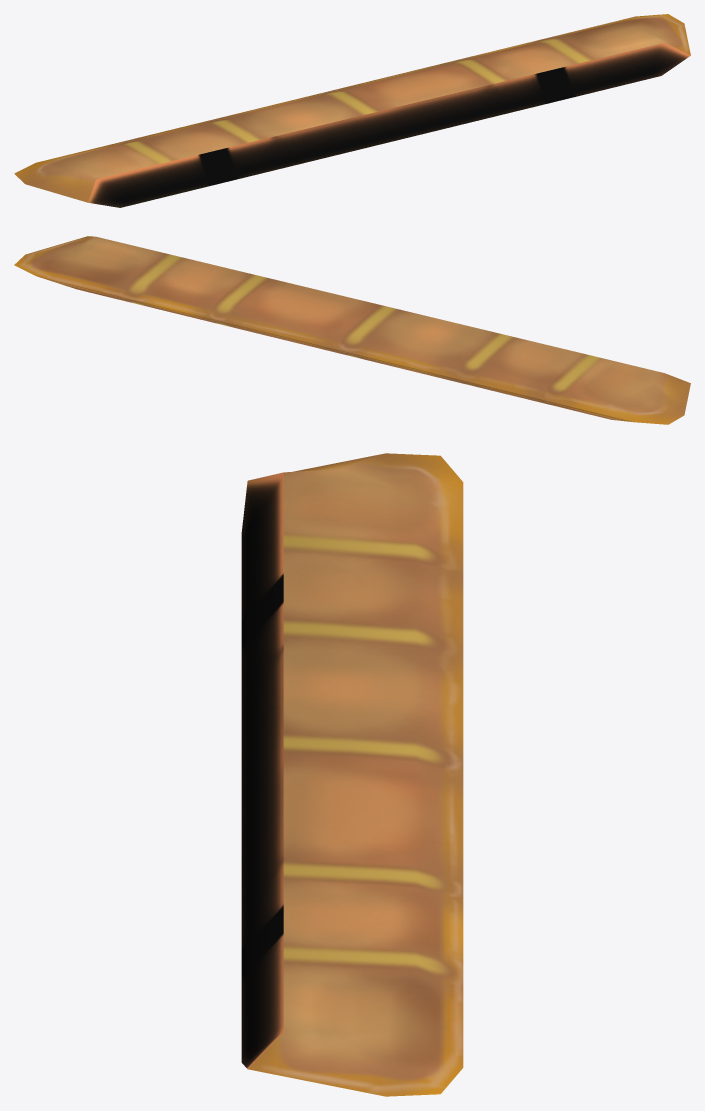
File: plane_tail.dae
The picture shows the model from 3 angles, top to bottom: view 1: azimuth 30°, elevation 25°; view 2: azimuth 150°, elevation 25°; view 3: azimuth 270°, elevation 25°; orthographic projection. The views are drawn at different scales.
Parts seen in each view (by area): view 1: Plane.002; view 2: Plane.002; view 3: Plane.002.
Part boxes in pixels (x1,y1,x2,y2): Plane.002: (14, 14, 690, 207); Plane.002: (14, 236, 690, 424); Plane.002: (241, 453, 463, 1096).
Size of the model in its own units: 2.39 by 0.3491 by 0.0842.
Materials: 1 (1 with a texture image).
